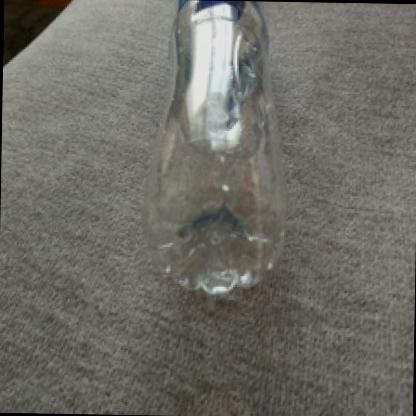plastic_bottles: (144, 0, 303, 311)
